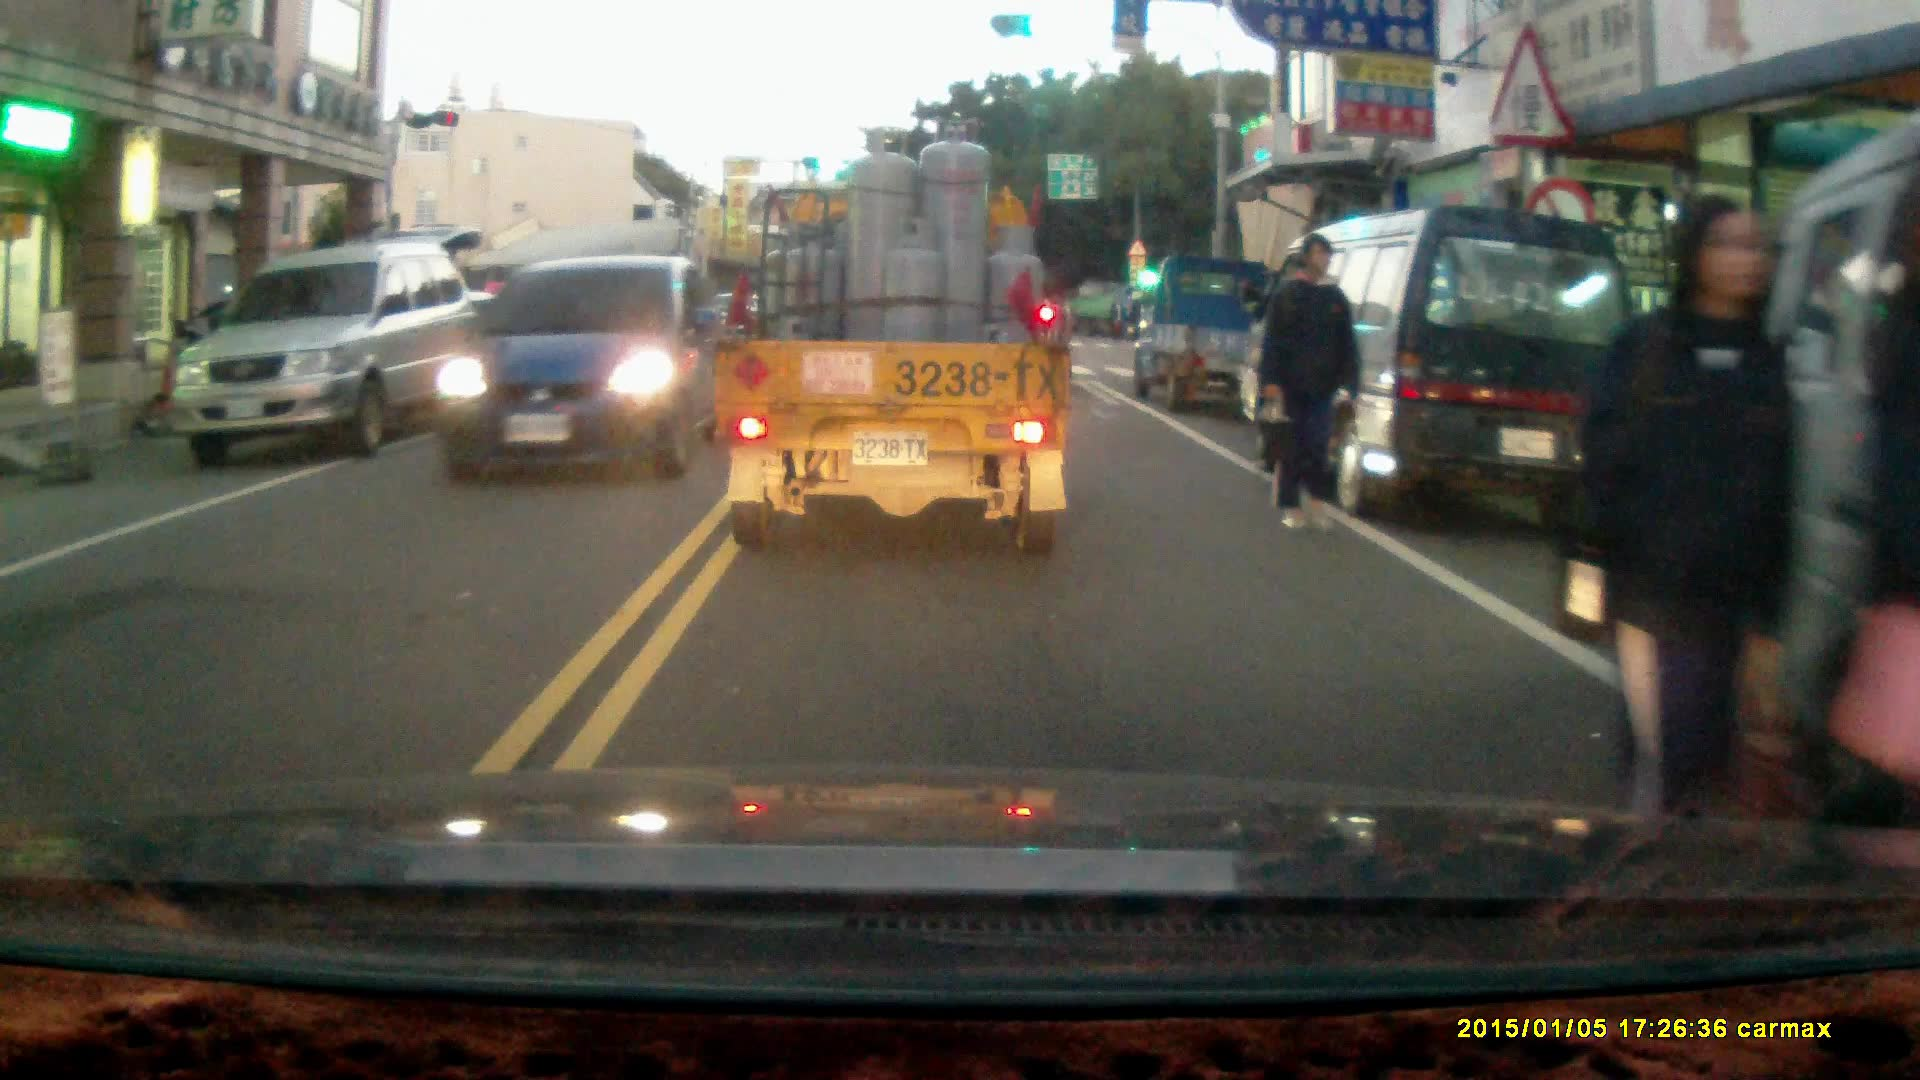pedestrian: (1590, 188, 1801, 879), (1828, 199, 1920, 884), (1262, 234, 1369, 541)
vehicle: (1670, 109, 1920, 799), (712, 119, 1075, 544), (1243, 202, 1645, 537), (436, 255, 745, 479), (175, 242, 482, 465), (392, 289, 580, 415), (1124, 248, 1262, 405)
